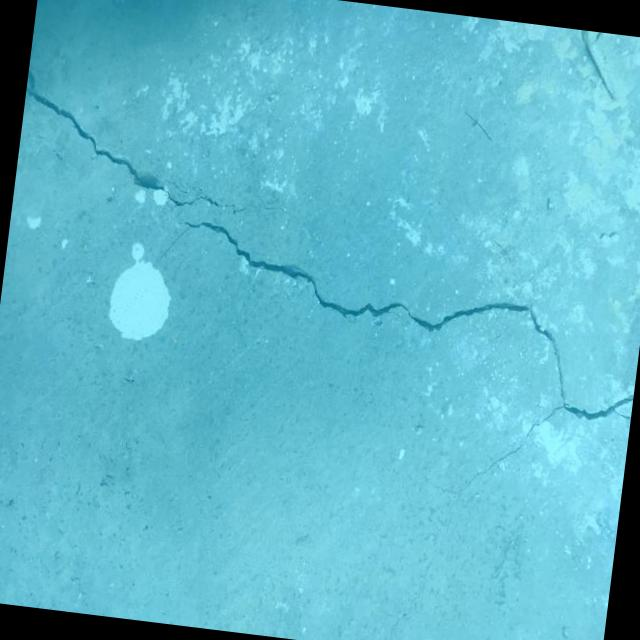crack: (131, 217, 640, 640), (13, 68, 314, 224)
